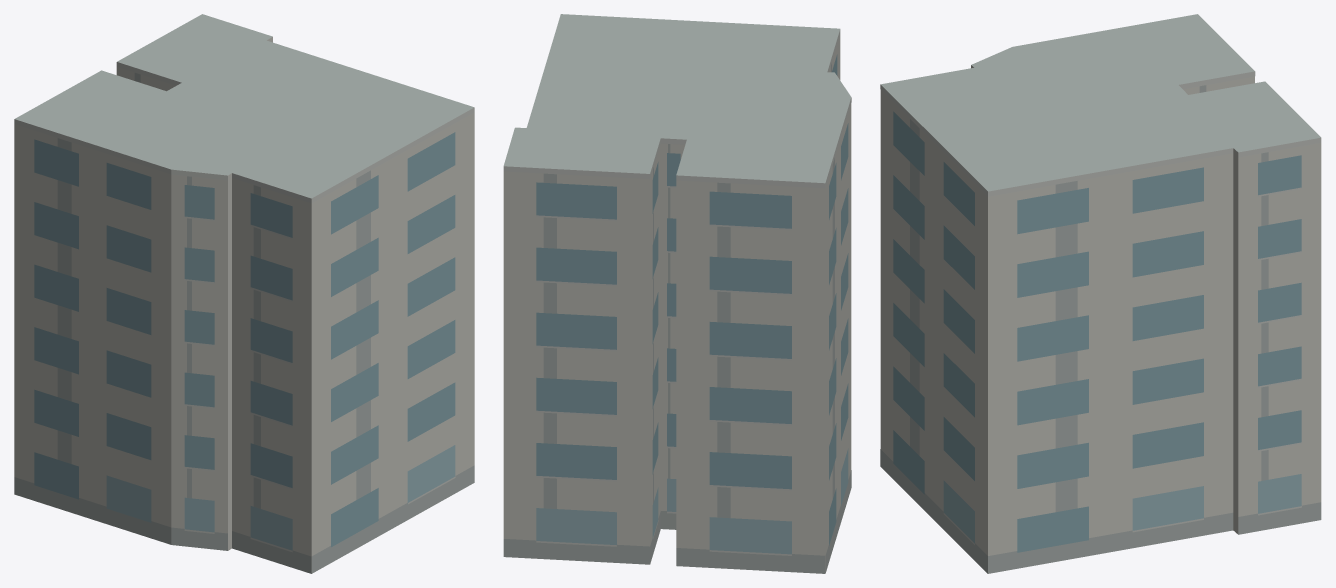
The model's file is survey-upis-32772151.glb.
The picture shows the model from 3 angles, left to right: view 1: azimuth 30°, elevation 25°; view 2: azimuth 150°, elevation 25°; view 3: azimuth 270°, elevation 25°; orthographic projection. The views are drawn at different scales.
Parts seen in each view (by area): view 1: survey-upis-32772151.tmp; view 2: survey-upis-32772151.tmp; view 3: survey-upis-32772151.tmp.
Part boxes in pixels (x1=…): survey-upis-32772151.tmp: x1=14, y1=14, x2=474, y2=573; survey-upis-32772151.tmp: x1=503, y1=14, x2=851, y2=573; survey-upis-32772151.tmp: x1=880, y1=14, x2=1321, y2=573.
Size of the model in its own units: 18.24 by 18.3 by 19.13.
